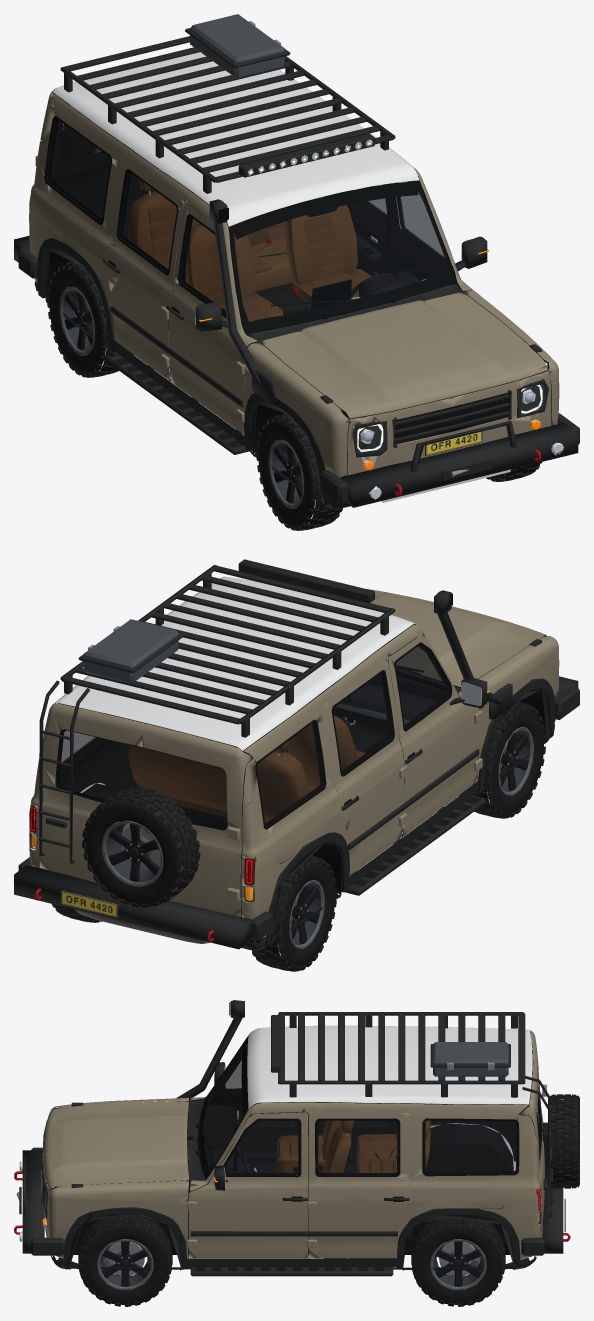
Rendered from boxy-off-roader.glb.
3 views of the same model, one above another, from view 1: azimuth 30°, elevation 25°; view 2: azimuth 150°, elevation 25°; view 3: azimuth 270°, elevation 25° (orthographic). The views are drawn at different scales.
Visible parts, largest first — view 1: Body, Wheel_FR, Wheel_RR, Spare_Wheel; view 2: Body, Spare_Wheel, Wheel_RR, Wheel_FR; view 3: Body, Wheel_FL, Wheel_RL, Spare_Wheel.
Part boxes in pixels (bbox=[...]): Body: bbox=[14, 14, 579, 509]; Wheel_FR: bbox=[256, 413, 342, 530]; Wheel_RR: bbox=[47, 261, 133, 377]; Spare_Wheel: bbox=[60, 125, 101, 161]; Body: bbox=[14, 559, 579, 951]; Spare_Wheel: bbox=[82, 787, 200, 907]; Wheel_RR: bbox=[250, 855, 336, 971]; Wheel_FR: bbox=[459, 701, 545, 818]; Body: bbox=[14, 1000, 570, 1276]; Wheel_FL: bbox=[78, 1215, 172, 1306]; Wheel_RL: bbox=[411, 1218, 505, 1306]; Spare_Wheel: bbox=[548, 1094, 579, 1188].
Size of the model in its own units: 2.29 by 2.21 by 4.86.
Materials: 68 (12 with a texture image).
